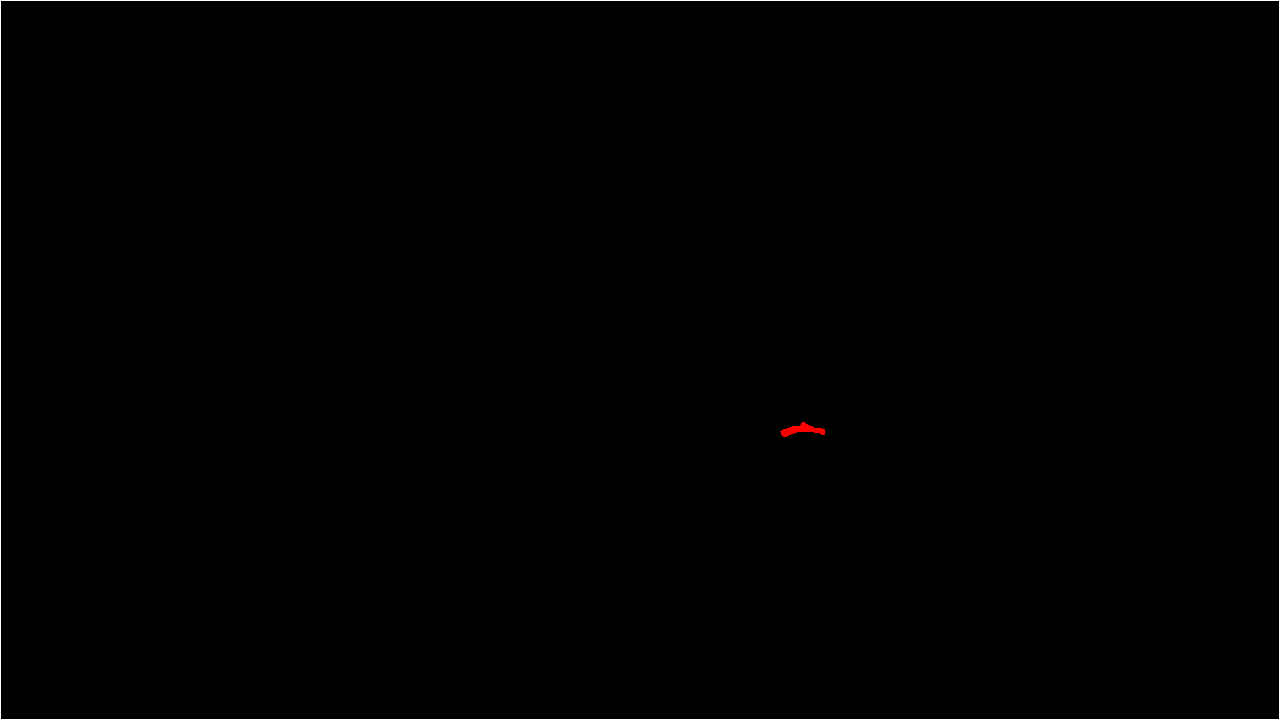drone: (768, 409, 835, 454)
